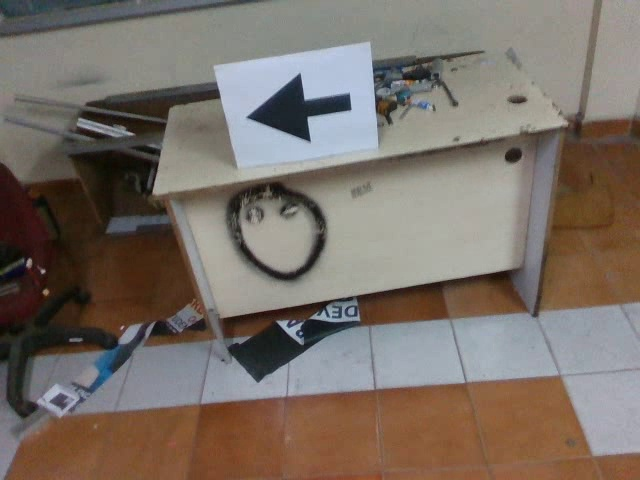Left: (243, 69, 358, 148)
